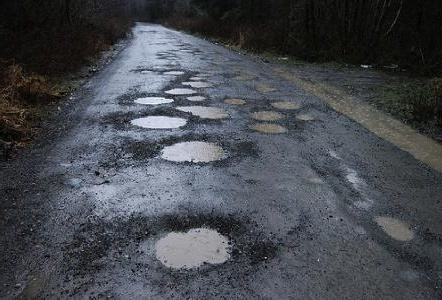pothole: (142, 214, 241, 269), (152, 135, 233, 164), (125, 111, 190, 131), (371, 213, 416, 241), (174, 103, 231, 121), (243, 121, 288, 135), (131, 92, 177, 105), (248, 110, 285, 122), (268, 98, 304, 109), (179, 78, 215, 87), (165, 85, 199, 94), (160, 68, 185, 76), (223, 96, 247, 104)
